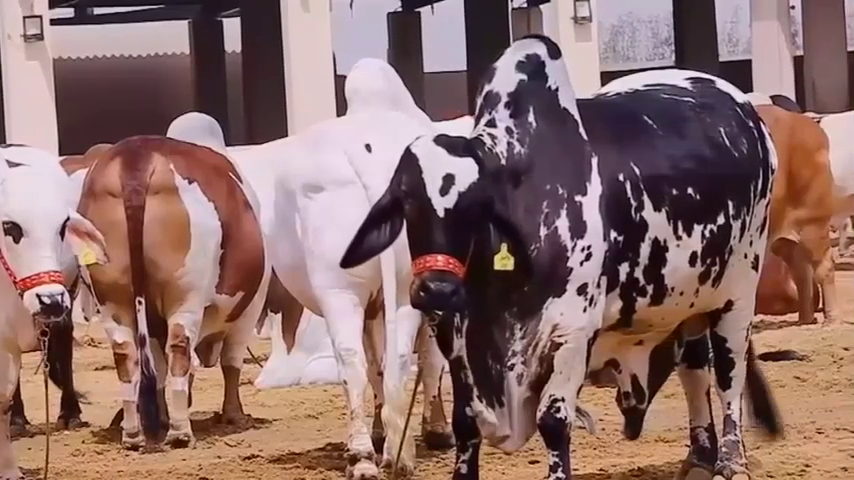bo: (356, 23, 767, 480), (260, 57, 473, 480), (69, 123, 276, 457), (2, 138, 116, 477), (739, 90, 848, 331)
